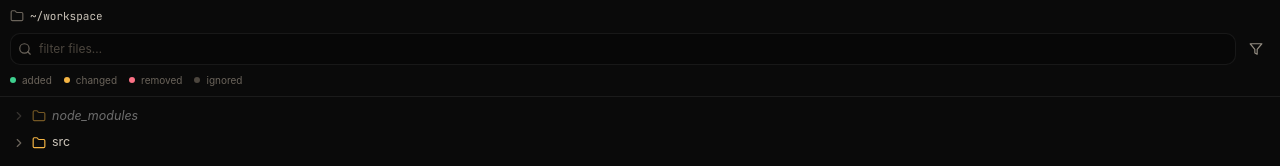
Test: FilesRail — lazy directories under a filter › hides an ignored lazy directory under the changed-only filter
Click the button titled "Show changed files only" at (1256, 48), box x1=1242 y1=34 x2=1270 y2=62
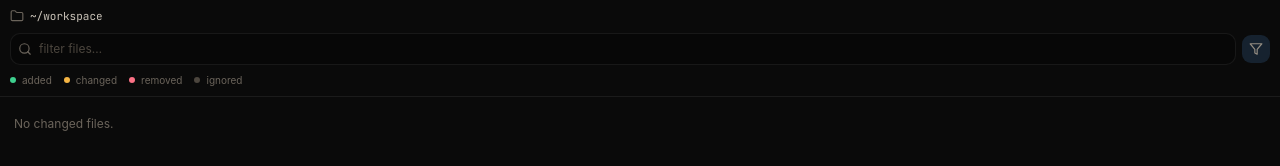
Result: the text "node_modules" is gone
